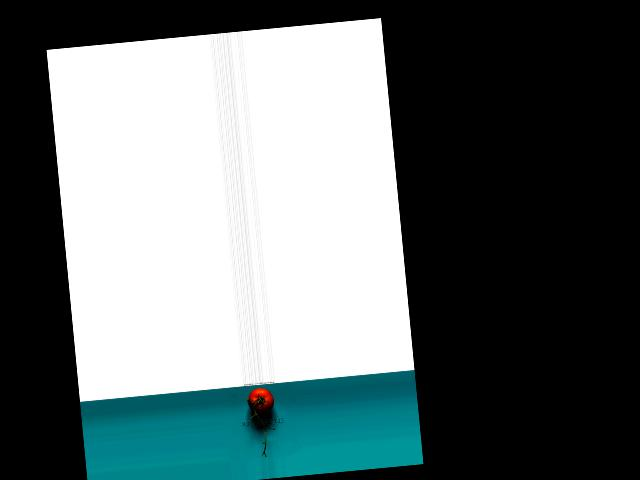tomato: (246, 387, 274, 415)
